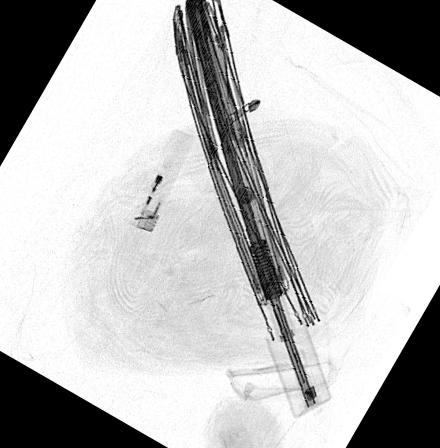Lighter: (127, 128, 194, 232)
